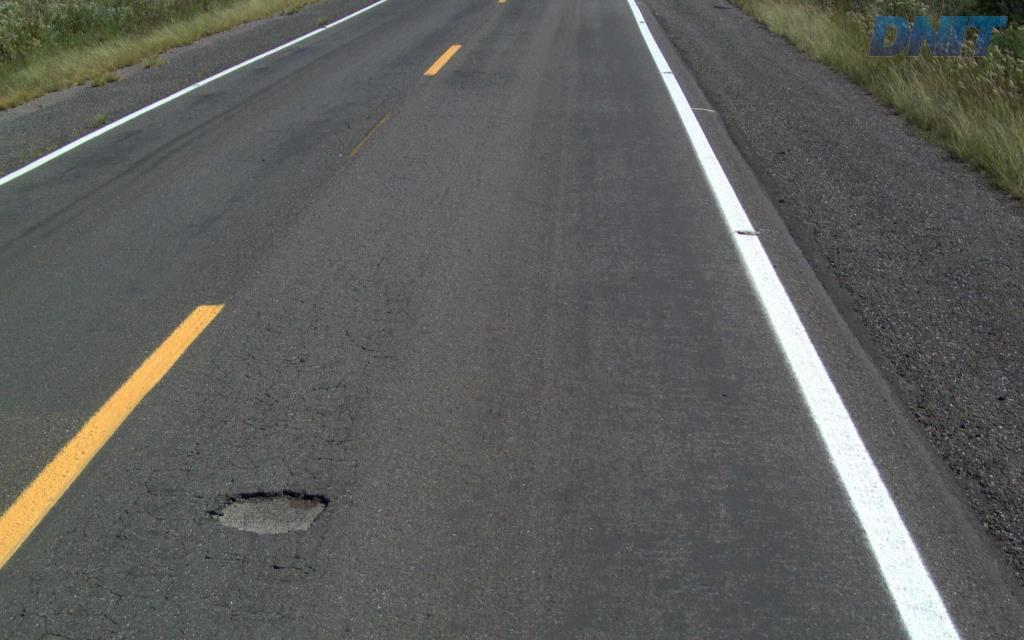pothole: (207, 481, 330, 541)
